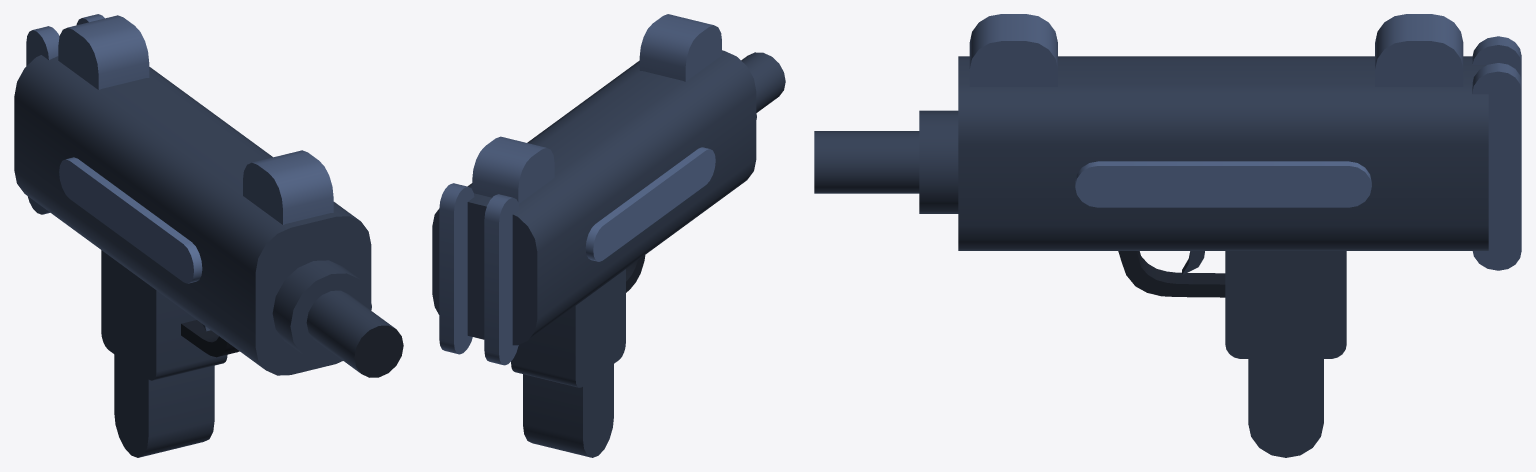
Rendered from Uzi.fbx.
3 renders of one model, left to right at view 1: azimuth 30°, elevation 25°; view 2: azimuth 150°, elevation 25°; view 3: azimuth 270°, elevation 25°, orthographic. The views are drawn at different scales.
Parts seen in each view (by area): view 1: Uzi; view 2: Uzi; view 3: Uzi.
Boxes of the visible parts, <box> form: Uzi: <box>14,14,403,457</box>; Uzi: <box>432,14,785,457</box>; Uzi: <box>814,14,1521,457</box>.
Size of the model in its own units: 0.1884 by 0.5101 by 0.7926.
